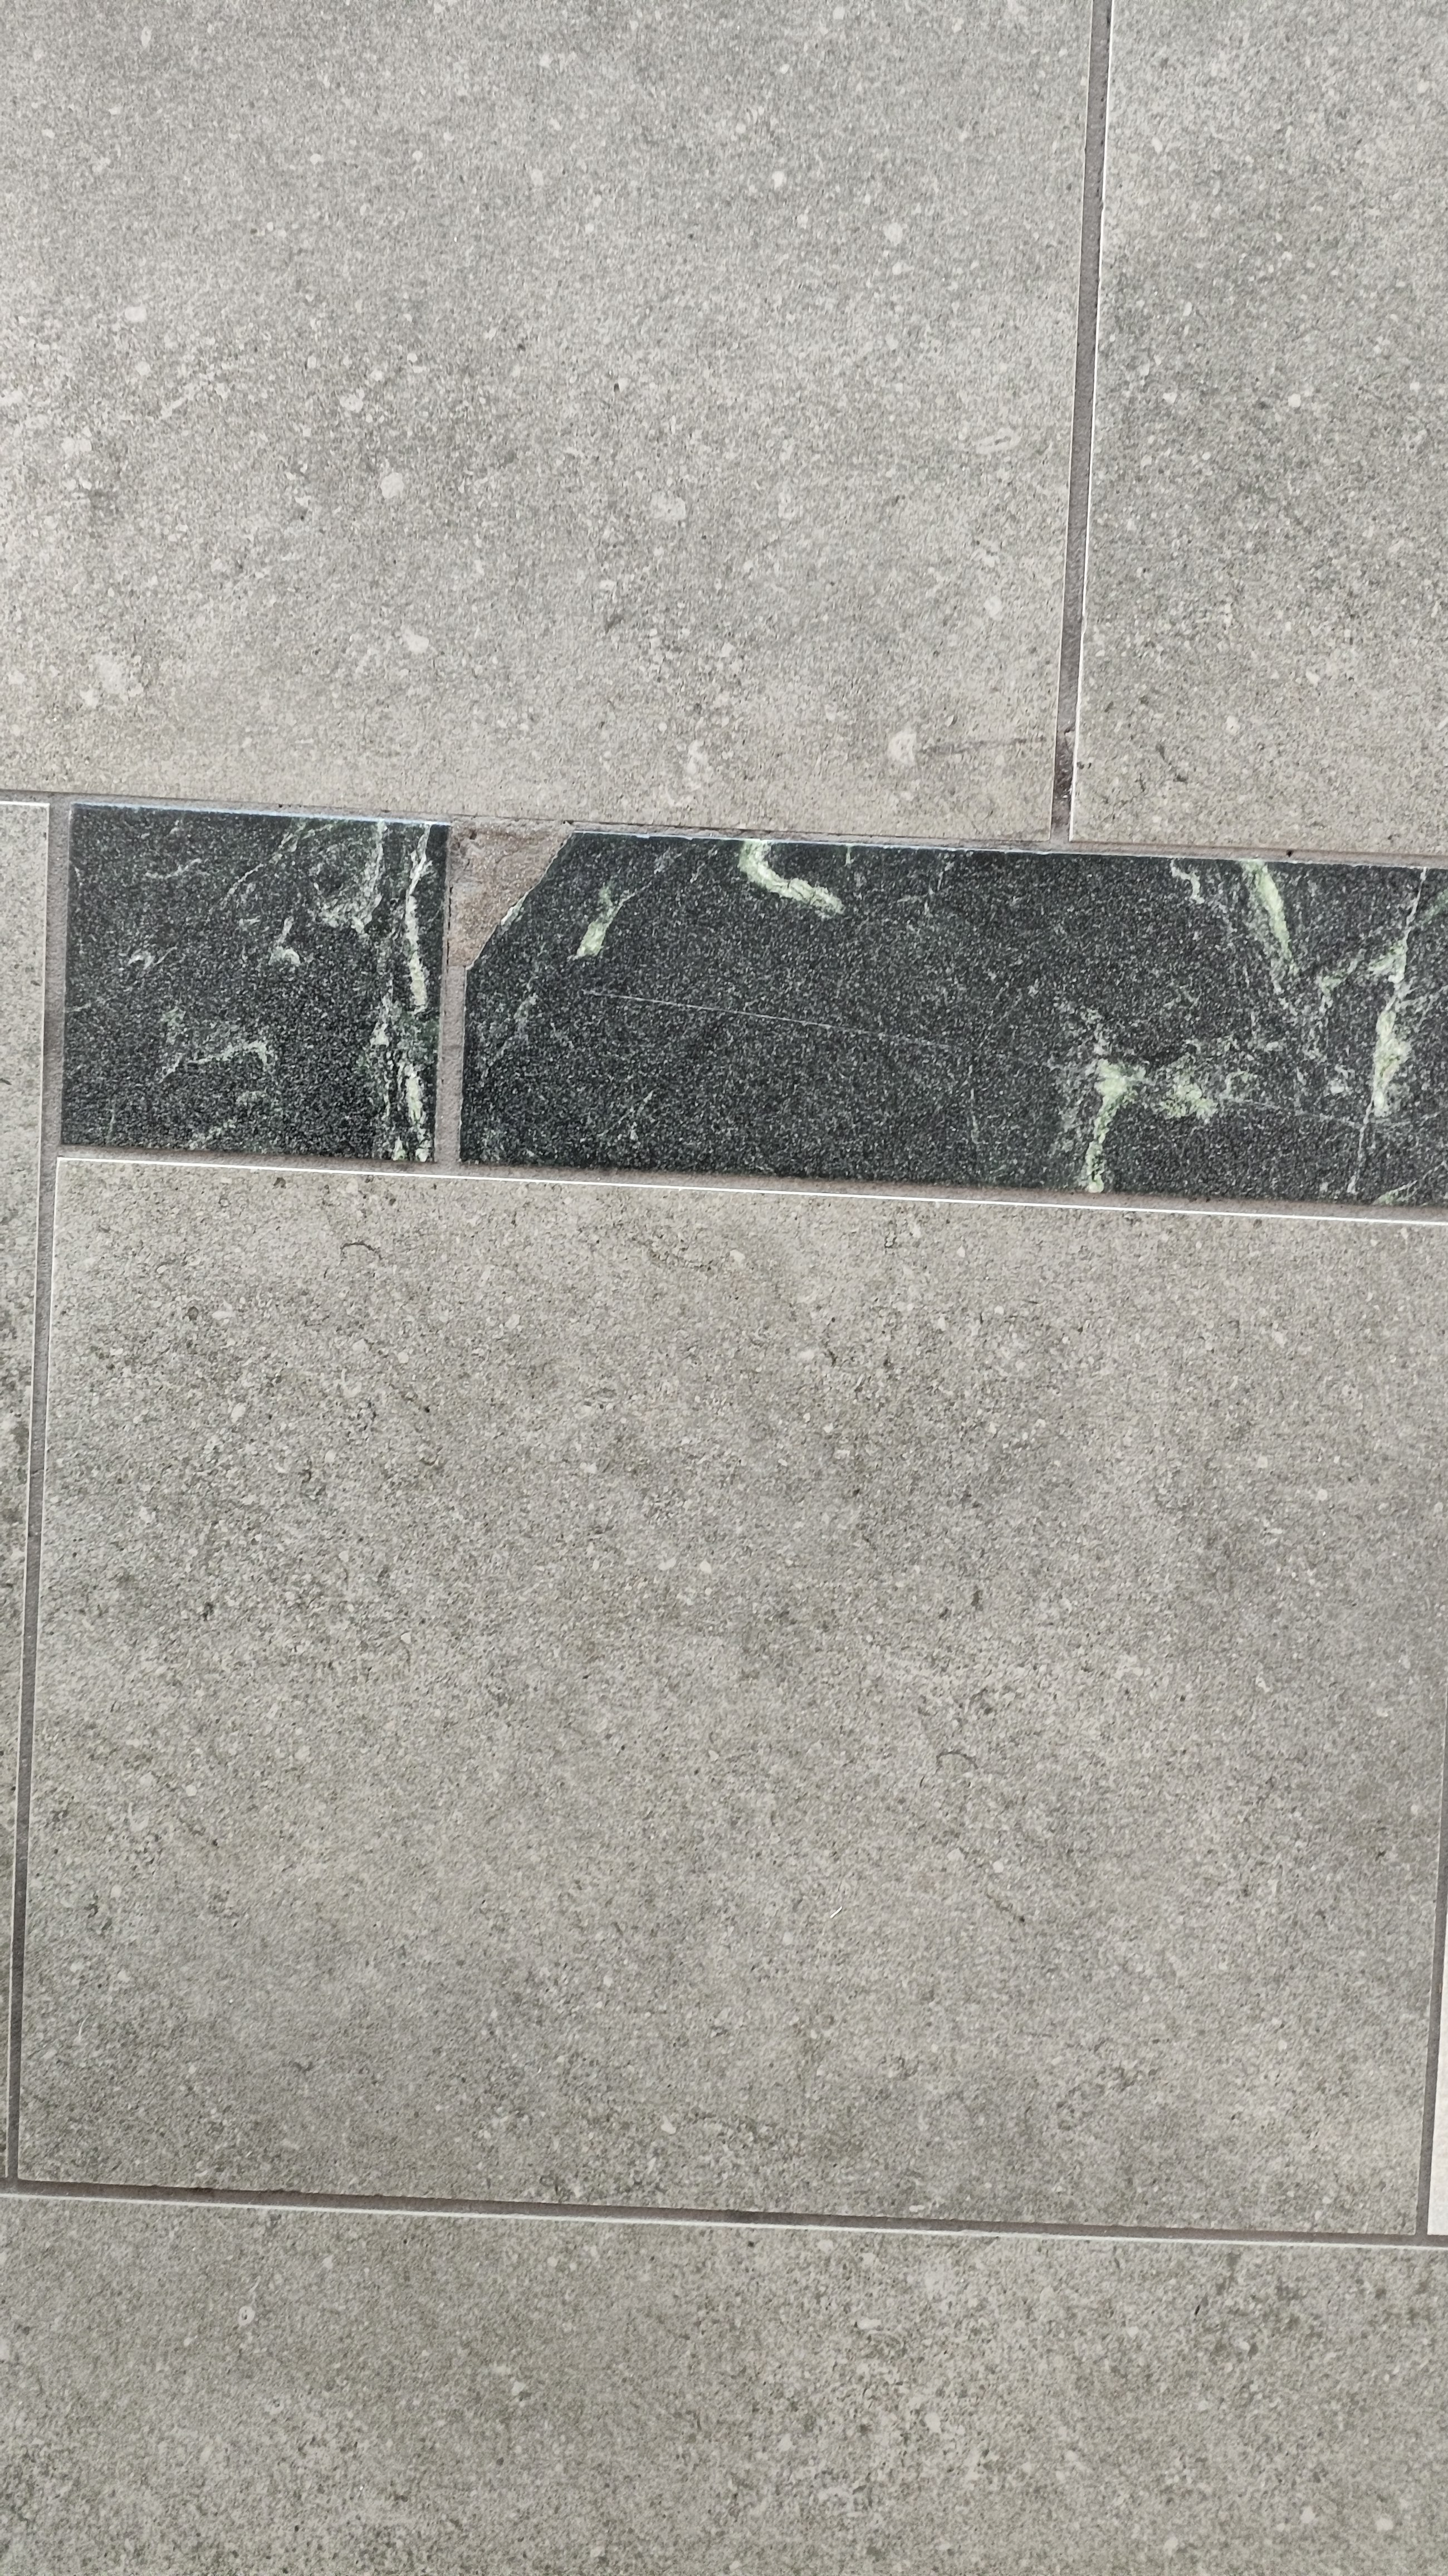Defect: (401, 775, 573, 1168)
